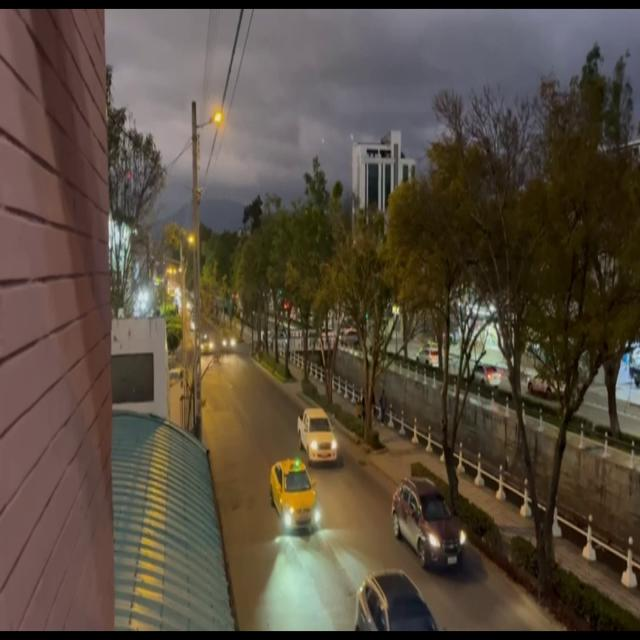CMT: (298, 409, 336, 460)
SED: (270, 458, 320, 533)
SUV: (392, 478, 466, 570), (356, 571, 438, 631)
